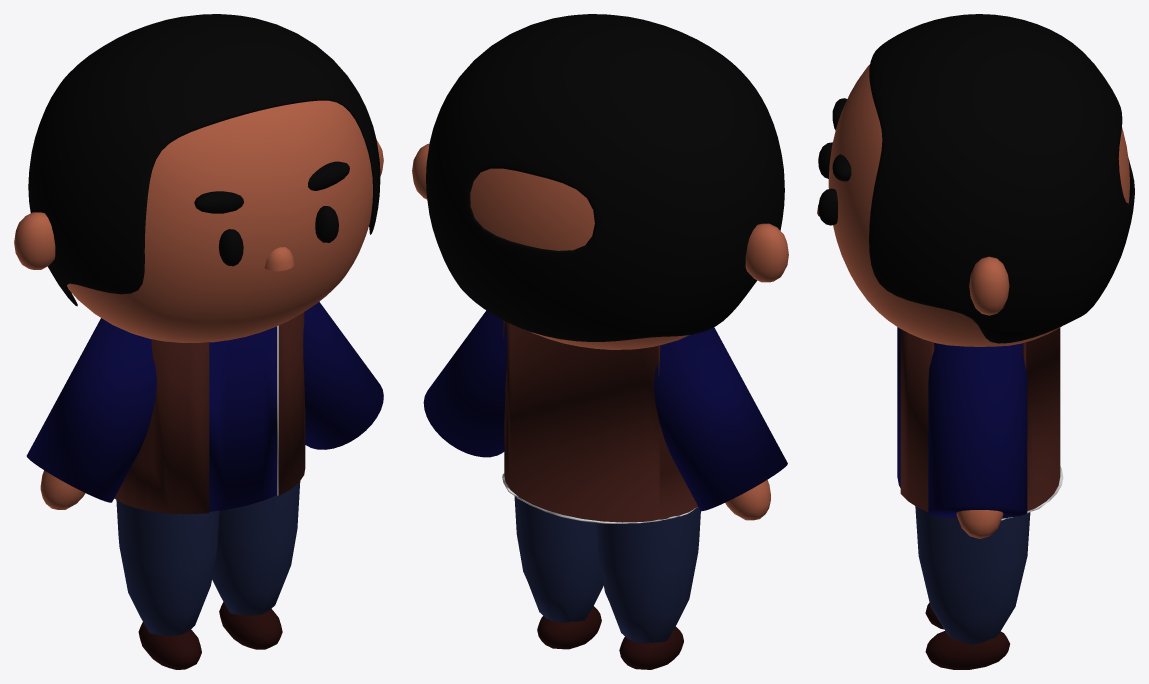
The model's file is boy.obj.
3 renders of one model, left to right at view 1: azimuth 30°, elevation 25°; view 2: azimuth 150°, elevation 25°; view 3: azimuth 270°, elevation 25°, orthographic. The views are drawn at different scales.
Parts seen in each view (by area): view 1: head, kao, body, hidariude, 立方体.003, ashiR, mimirL, 立方体, 立方体.001, mayuge, eyeR, handL (+1 smaller); view 2: head, body, hidariude, 立方体.003, kao, ashiR, mimirL, 立方体, 立方体.001, handL, mimir; view 3: head, hidariude, kao, body, ashiR, 立方体, mimir, handR, eyeR, mayuge.
Boxes of the visible parts, bbox=[...] form: head: bbox=[28, 14, 380, 306]; kao: bbox=[67, 100, 372, 342]; body: bbox=[114, 312, 305, 514]; hidariude: bbox=[26, 301, 383, 502]; 立方体.003: bbox=[116, 500, 219, 635]; ashiR: bbox=[212, 481, 300, 615]; mimirL: bbox=[14, 212, 55, 269]; 立方体: bbox=[219, 602, 282, 649]; 立方体.001: bbox=[138, 622, 201, 669]; mayuge: bbox=[194, 161, 349, 213]; eyeR: bbox=[218, 206, 338, 266]; handL: bbox=[40, 470, 85, 509]; head: bbox=[426, 14, 784, 341]; body: bbox=[502, 320, 698, 523]; hidariude: bbox=[423, 310, 787, 511]; 立方体.003: bbox=[596, 507, 700, 643]; kao: bbox=[470, 168, 689, 349]; ashiR: bbox=[514, 496, 603, 622]; mimirL: bbox=[745, 223, 788, 282]; 立方体: bbox=[537, 606, 601, 649]; 立方体.001: bbox=[619, 626, 683, 669]; handL: bbox=[725, 480, 770, 520]; mimir: bbox=[412, 143, 429, 199]; head: bbox=[869, 14, 1134, 343]; hidariude: bbox=[928, 343, 1027, 518]; kao: bbox=[828, 64, 1129, 346]; body: bbox=[897, 327, 1063, 520]; ashiR: bbox=[915, 506, 1030, 644]; 立方体: bbox=[925, 631, 1009, 669]; mimir: bbox=[969, 256, 1009, 315]; handR: bbox=[956, 510, 1003, 538]; eyeR: bbox=[818, 142, 837, 225]; mayuge: bbox=[832, 98, 851, 181].
Bounding box in the file's own units: 3.04 × 4.91 × 2.31.
